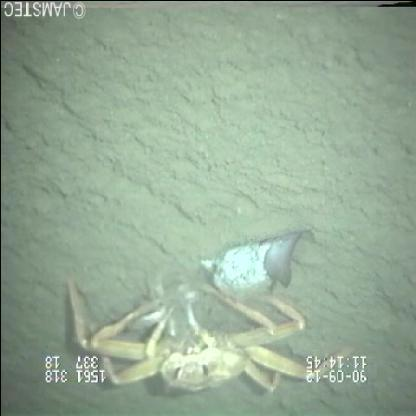Bio: (65, 219, 359, 398)
